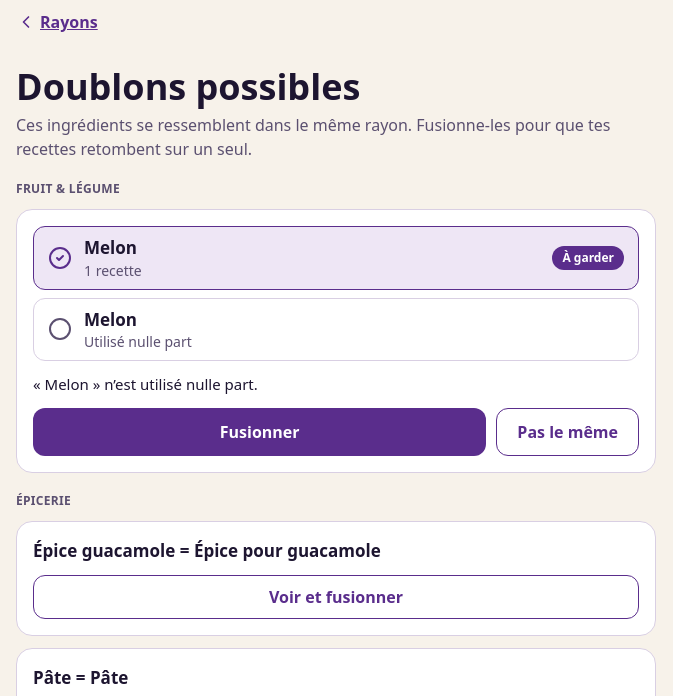
Test: DuplicatesView › bascule « À garder » et la phrase d’effet sans aucun appel réseau
Click the radio button labelled "Melon Utilisé nulle part": (110, 319) [33,298,639,361]
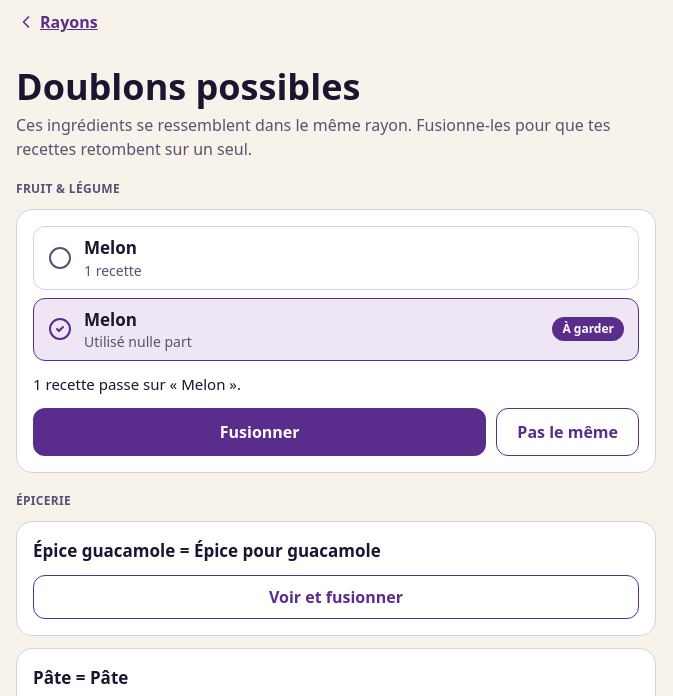
Now the text with test id "duplicate-effect" reads "1 recette passe sur « Melon ».", box [33,374,241,394]
